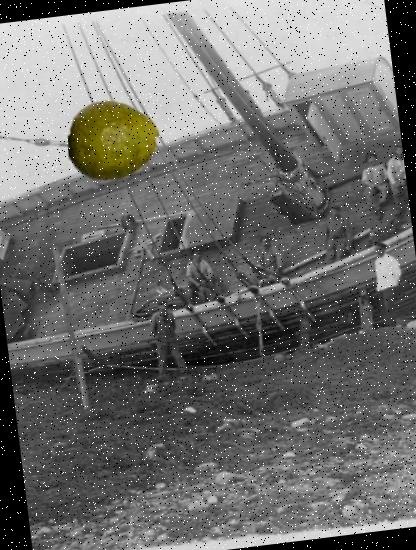Guava: (63, 90, 164, 191)
